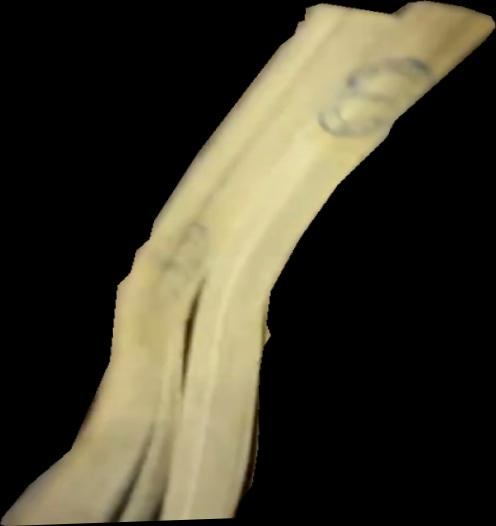backward: (1, 1, 496, 526)
